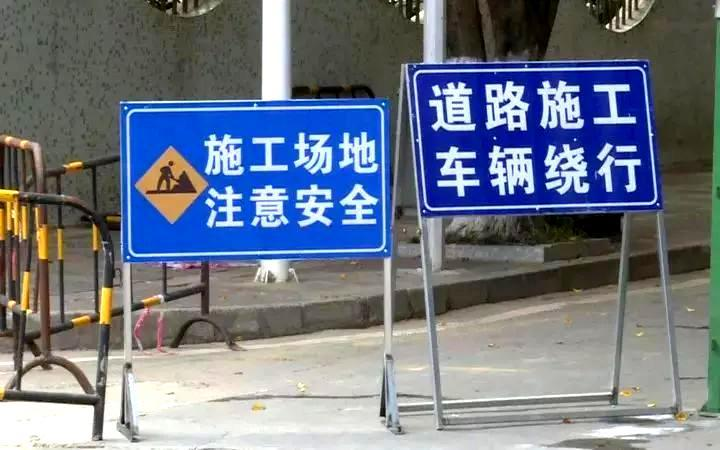sign: (123, 106, 387, 251), (410, 68, 662, 209)
